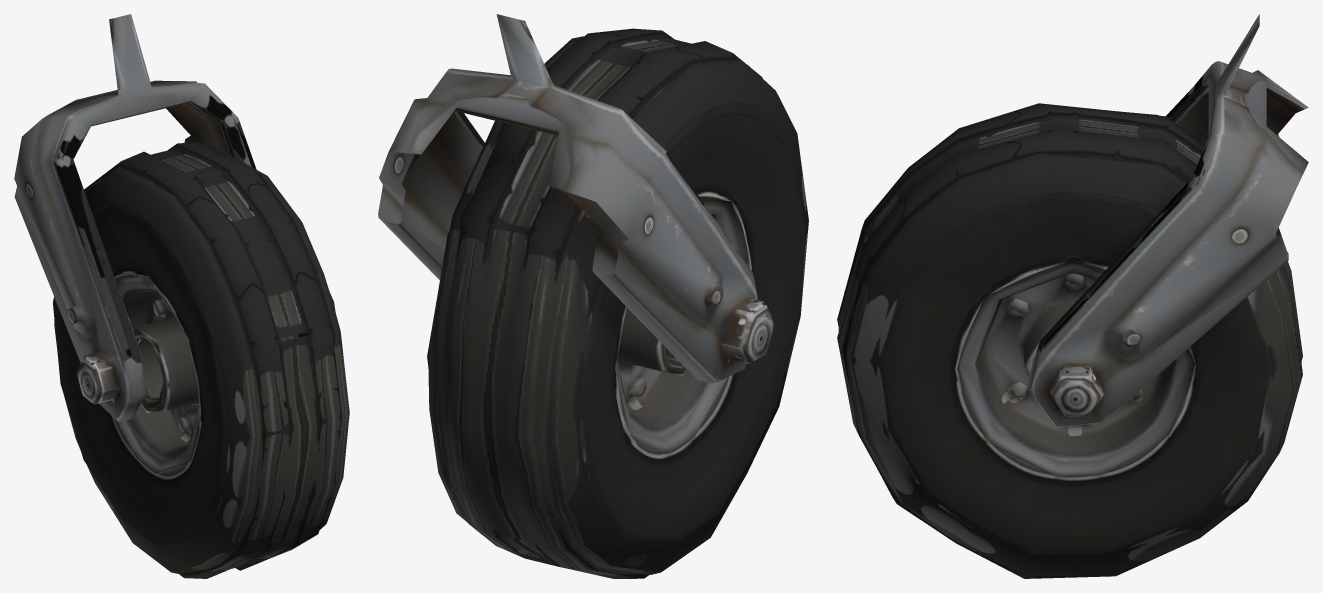
Rendered from tailwheel_remesh.glb.
The picture shows the model from 3 angles, left to right: view 1: azimuth 30°, elevation 25°; view 2: azimuth 150°, elevation 25°; view 3: azimuth 270°, elevation 25°; orthographic projection. The views are drawn at different scales.
Parts seen in each view (by area): view 1: tripo_node_21af038d-0326-4c5d-9ef4-ba62f; view 2: tripo_node_21af038d-0326-4c5d-9ef4-ba62f; view 3: tripo_node_21af038d-0326-4c5d-9ef4-ba62f.
Boxes of the visible parts, box(x1,y1,x2,y2) form: tripo_node_21af038d-0326-4c5d-9ef4-ba62f: box(14, 14, 349, 578); tripo_node_21af038d-0326-4c5d-9ef4-ba62f: box(378, 14, 808, 578); tripo_node_21af038d-0326-4c5d-9ef4-ba62f: box(837, 14, 1308, 578).
Bounding box in the file's own units: 0.3933 × 0.8102 × 0.636.
1 material, 1 textured.
